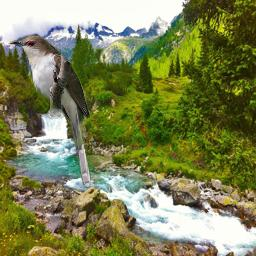Cuckoo: (8, 34, 91, 188)
